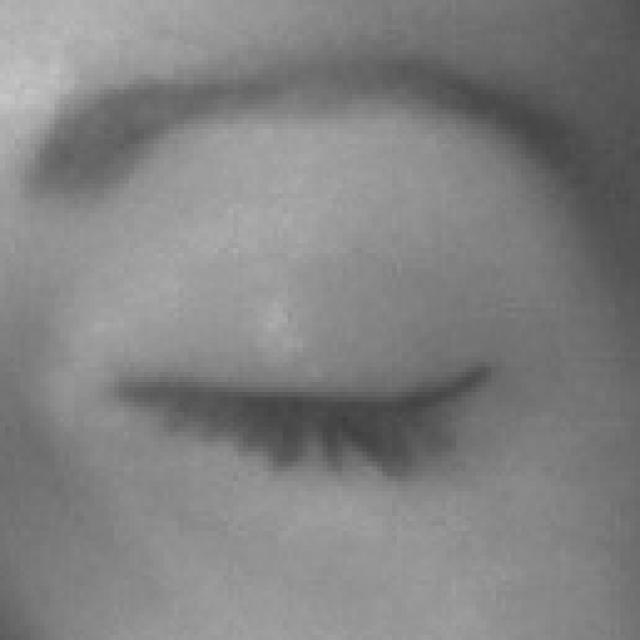close: (44, 49, 640, 590)
